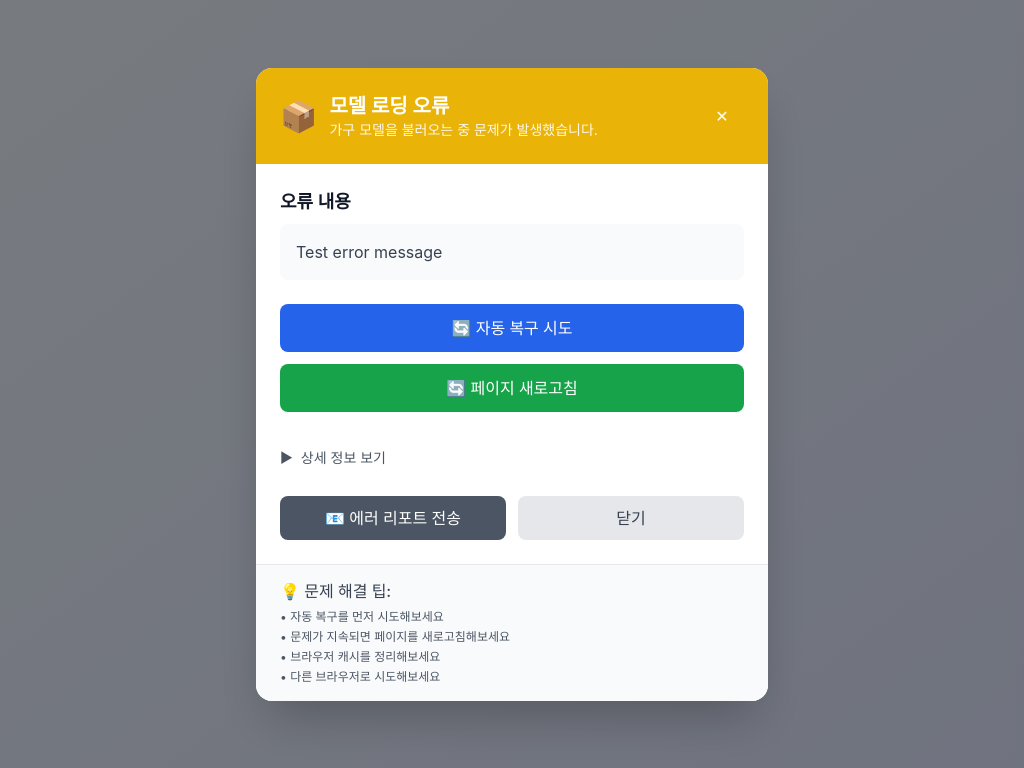
ErrorModal › shows loading state during recovery
Click the button "🔄 자동 복구 시도": (512, 328) [280,304,744,352]
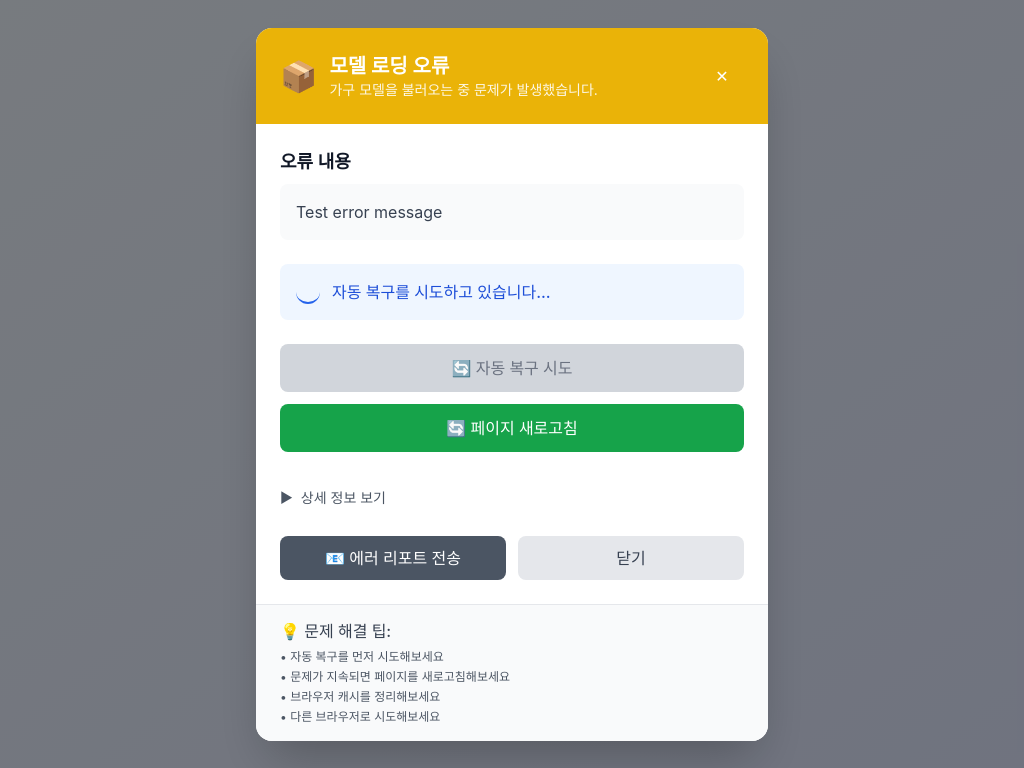
Check: the text "자동 복구를 시도하고 있습니다..." is shown, box [332,280,551,304]
